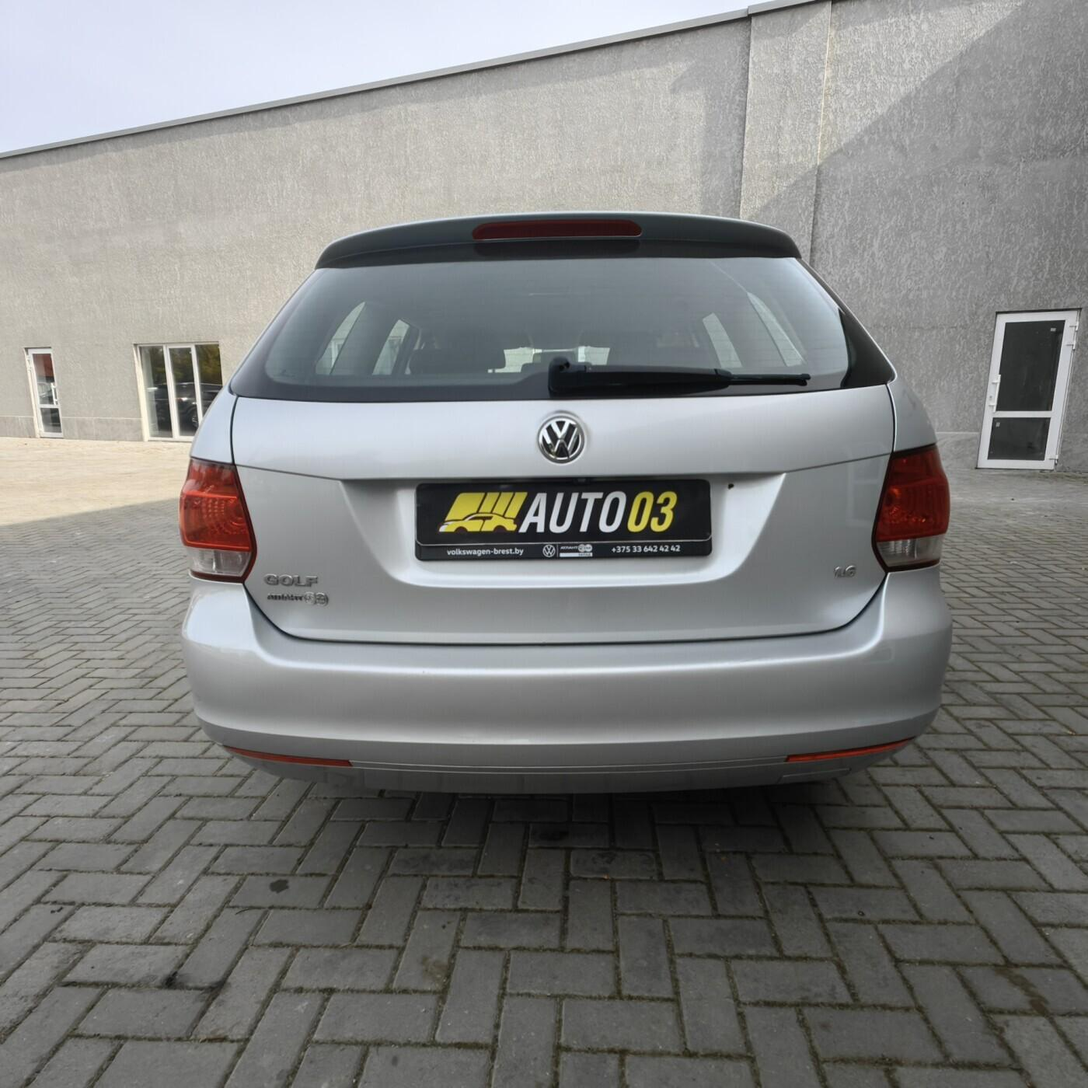Golf_2008-2013: (167, 199, 956, 807)
